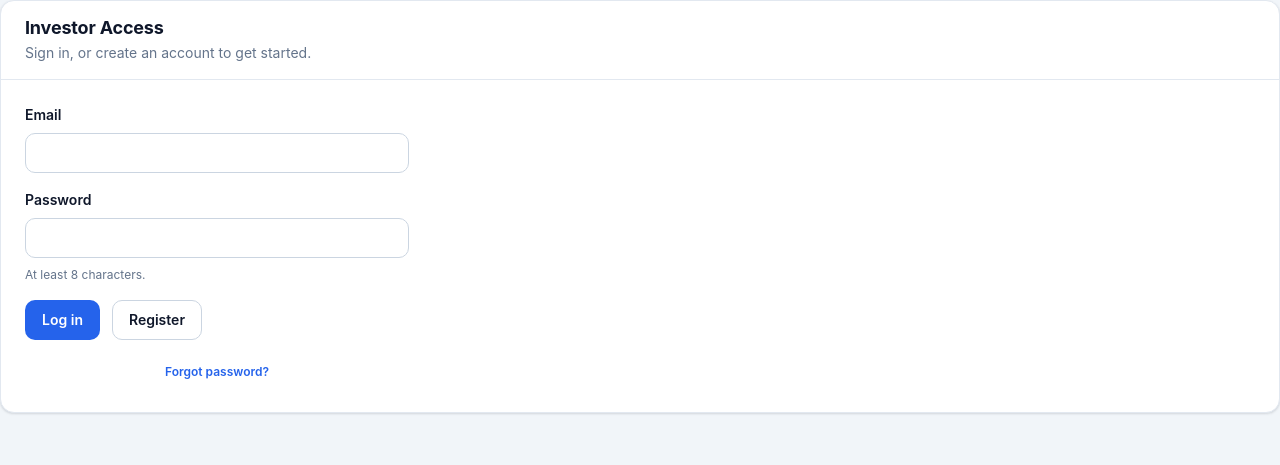
Scenario: AuthPanel › shows_the_api_error_on_bad_credentials
The width and height of the screenshot is (1280, 465).
Step 1. Type "a@example.com" into the field labelled "Email" → (217, 152), box [25,132,409,172]
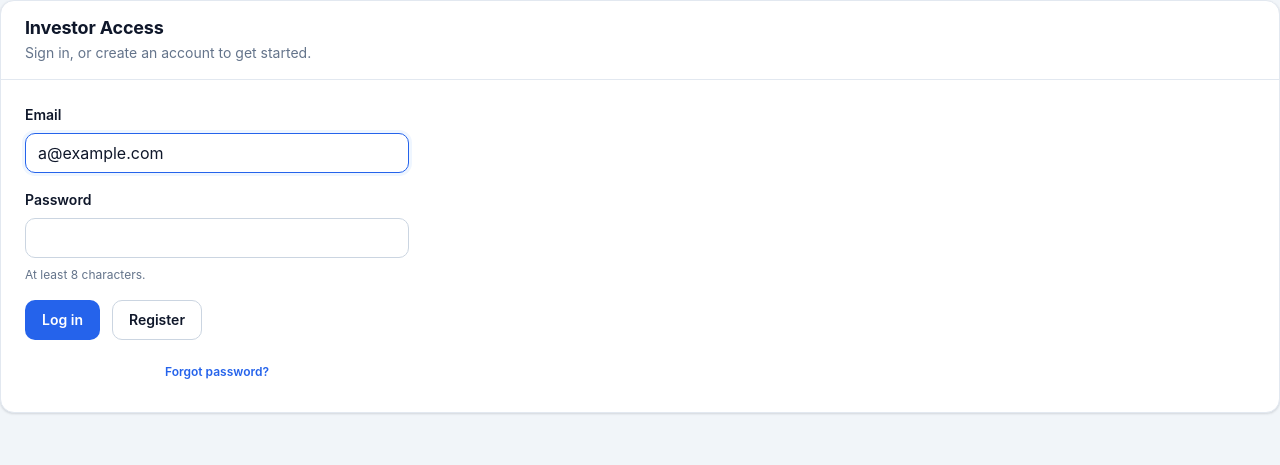
Step 2. Type "wrong-pass1" into the password field labelled "Password" → (217, 238), box [25,218,409,258]
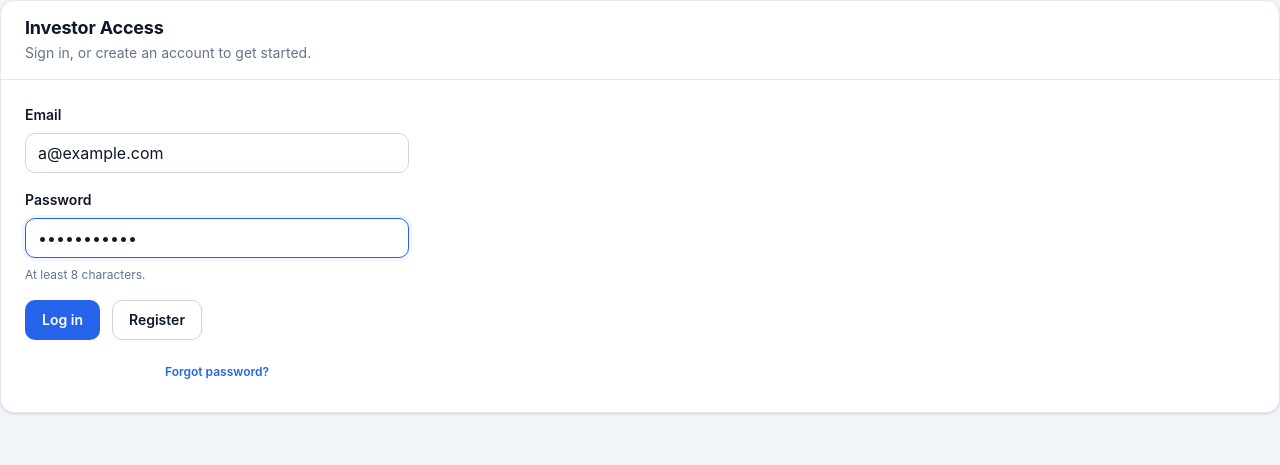
Step 3. Click the button "Log in" → (62, 320), box [25,300,100,340]
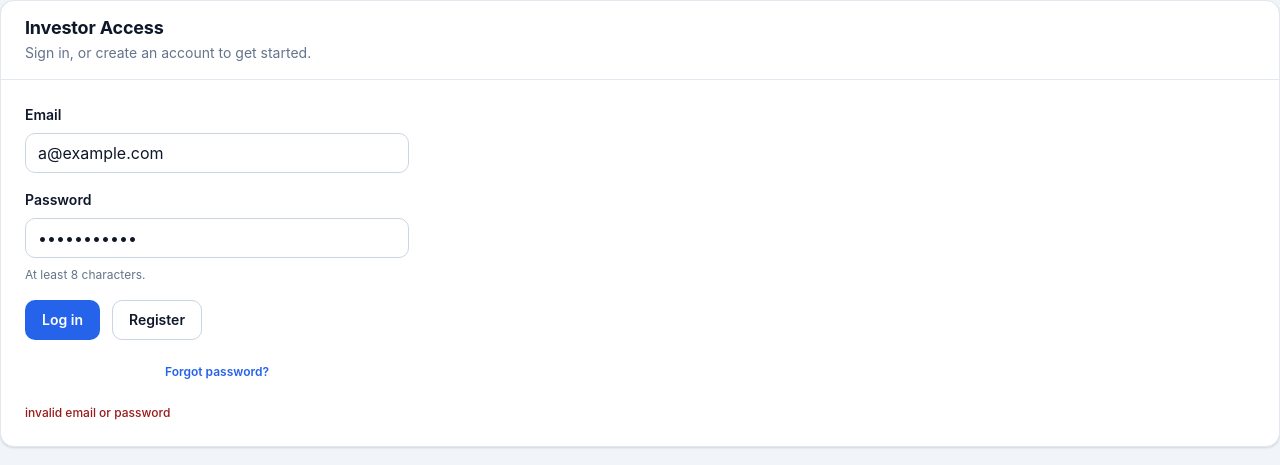
Expected: the message reads "invalid email or password", [25,404,170,420]
